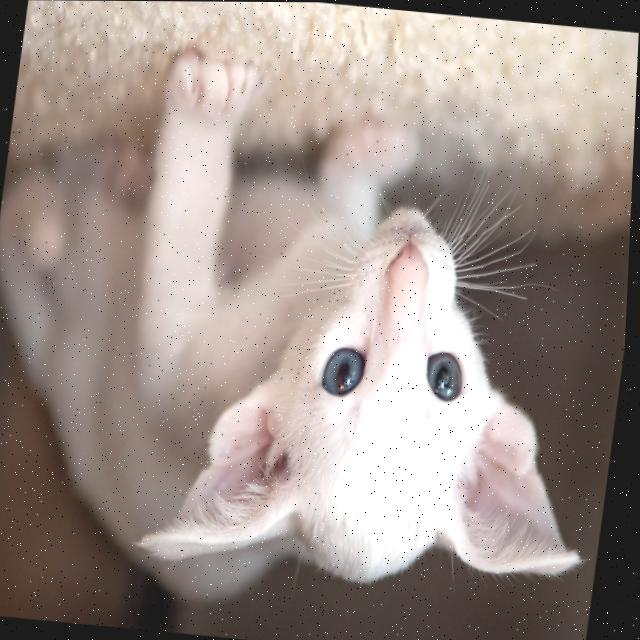Oriental: (0, 37, 639, 640)
